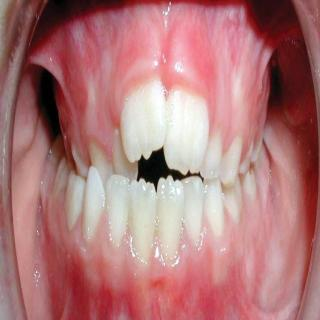maligned: (112, 77, 164, 154), (160, 84, 206, 168), (153, 177, 181, 263), (180, 174, 208, 252), (133, 179, 158, 263), (84, 164, 108, 248), (106, 172, 131, 246), (109, 124, 136, 177), (64, 177, 88, 233), (80, 140, 108, 176), (51, 155, 71, 204), (68, 139, 88, 170)
